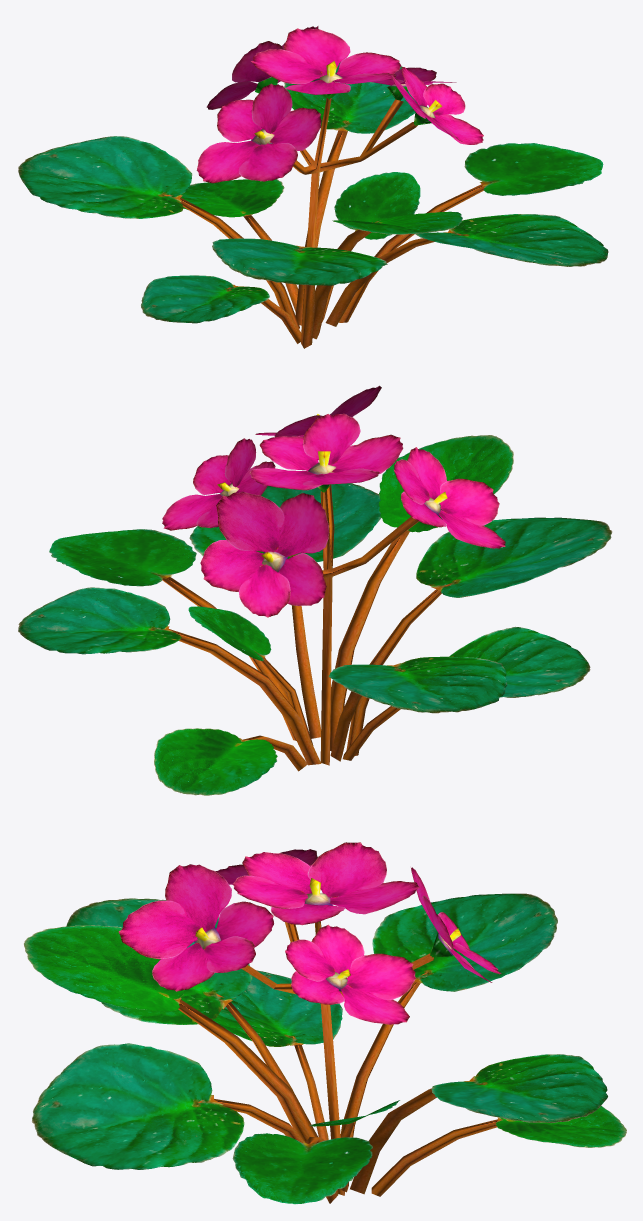
Rendered from Saintpaulia3C.fbx.
3 views of the same model, one above another, from view 1: azimuth 30°, elevation 25°; view 2: azimuth 150°, elevation 25°; view 3: azimuth 270°, elevation 25° (orthographic). The views are drawn at different scales.
Visible parts, largest first — view 1: Sainpaulia3C_LOD0; view 2: Sainpaulia3C_LOD0; view 3: Sainpaulia3C_LOD0.
Boxes of the visible parts, bbox=[...] form: Sainpaulia3C_LOD0: bbox=[18, 26, 608, 348]; Sainpaulia3C_LOD0: bbox=[18, 385, 612, 795]; Sainpaulia3C_LOD0: bbox=[24, 842, 626, 1204].
Size of what is drawn, in the model's own units: 62.9 by 36 by 56.95.
